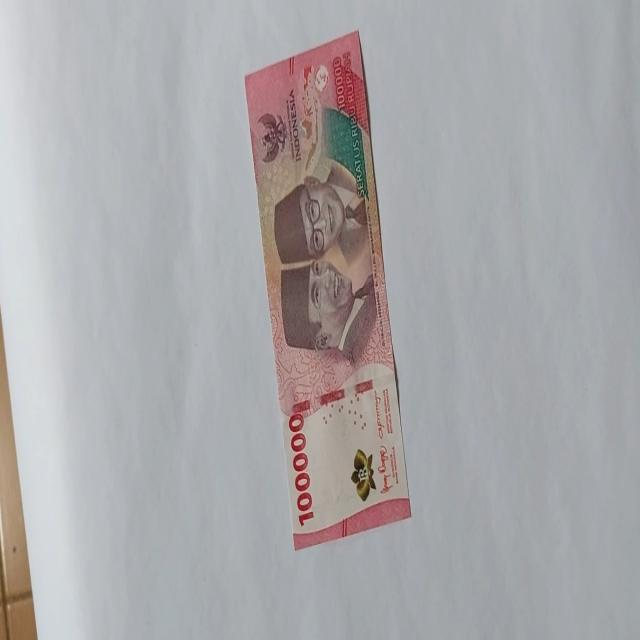seratus ribu rupiah: (242, 28, 412, 550), (306, 256, 377, 364)
